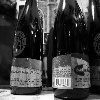beer: (51, 2, 95, 100)
